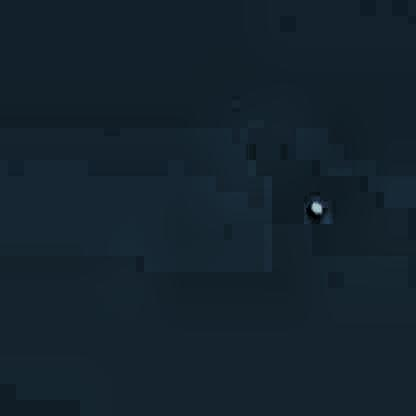golfball: (305, 200, 323, 216)
